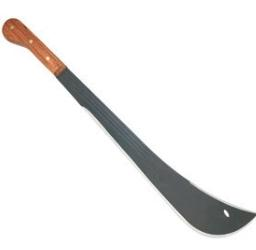MACHETTE: (0, 7, 256, 250)
